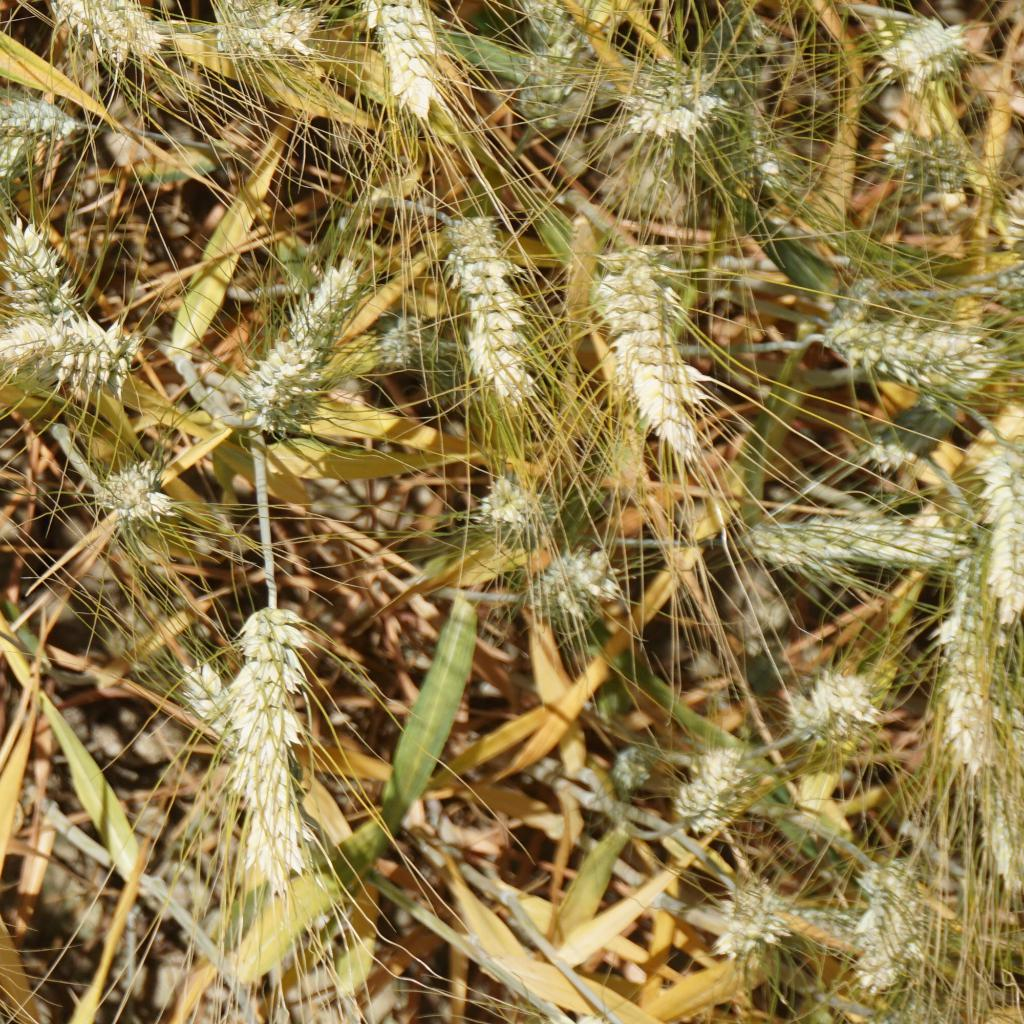0-0: (247, 610, 328, 888), (591, 234, 699, 439), (440, 203, 534, 405), (813, 303, 1001, 388), (738, 503, 956, 571), (0, 295, 143, 391), (237, 251, 361, 358), (971, 428, 1024, 625), (848, 850, 925, 985), (347, 0, 442, 109), (233, 335, 321, 432), (631, 49, 726, 135), (676, 736, 762, 828), (80, 446, 173, 528), (787, 659, 877, 743), (874, 8, 971, 83), (934, 640, 996, 756), (533, 540, 618, 623), (472, 470, 570, 541), (873, 122, 965, 196), (981, 716, 1020, 886), (180, 649, 243, 751), (0, 220, 75, 304), (207, 0, 318, 56), (934, 541, 989, 651), (0, 80, 86, 150), (376, 298, 444, 378), (513, 34, 566, 132), (718, 873, 777, 945), (91, 0, 155, 54), (608, 736, 656, 793), (29, 0, 103, 35), (516, 0, 577, 32), (0, 143, 18, 213)
